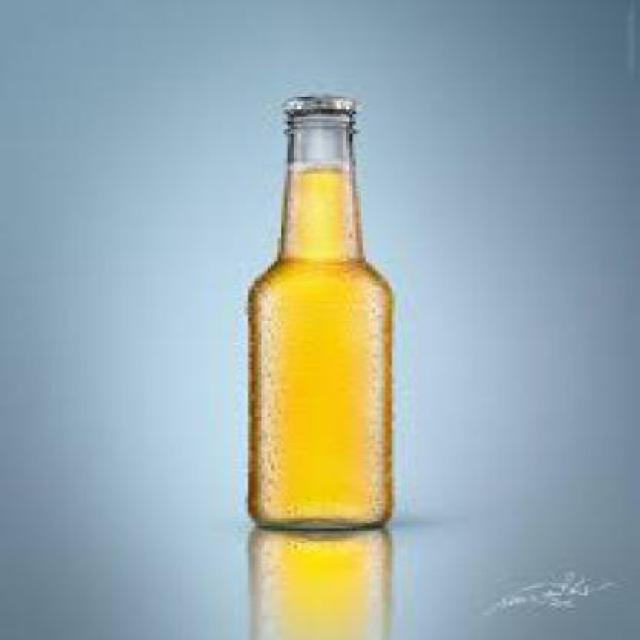GLASS: (242, 109, 392, 528)
METAL: (278, 94, 356, 114)
